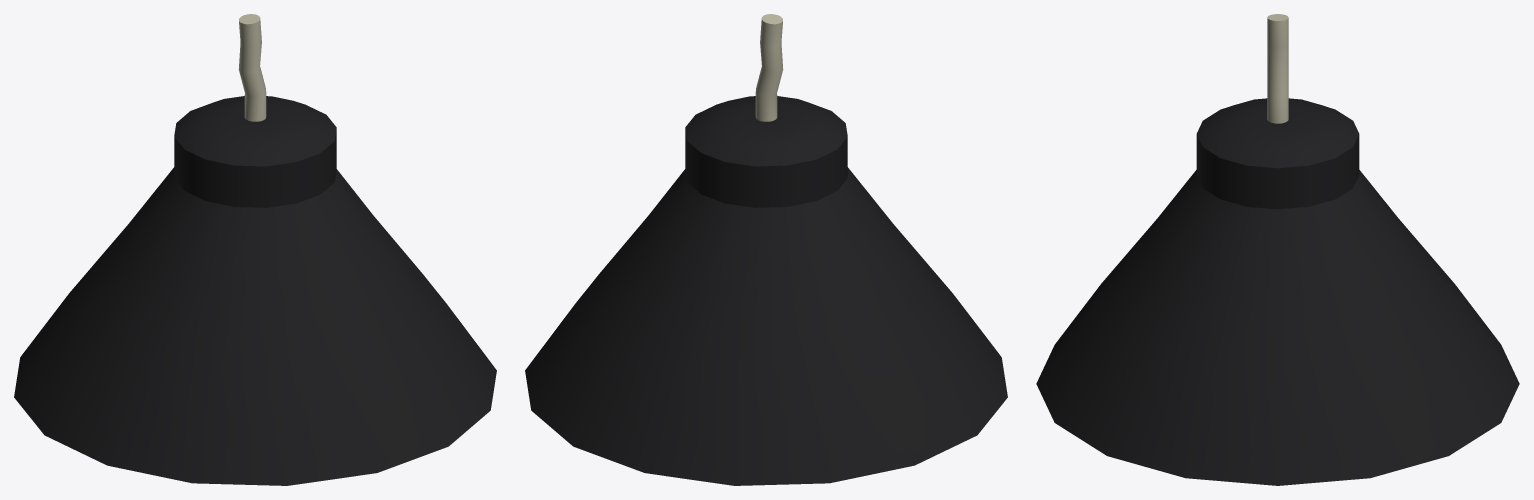
The model's file is lamba.fbx.
3 renders of one model, left to right at view 1: azimuth 30°, elevation 25°; view 2: azimuth 150°, elevation 25°; view 3: azimuth 270°, elevation 25°, orthographic.
Parts seen in each view (by area): view 1: lamba; view 2: lamba; view 3: lamba.
Part boxes in pixels (x1,y1,x2,y2): lamba: (14, 14, 496, 485); lamba: (525, 14, 1007, 485); lamba: (1036, 14, 1519, 485).
Size of the model in its own units: 571 by 547 by 571.
